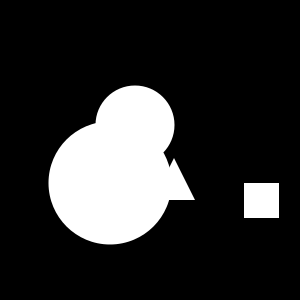circle: (244, 183, 279, 218)
rectangle: (48, 122, 172, 244), (96, 86, 174, 164)
triangle: (153, 158, 195, 200)
